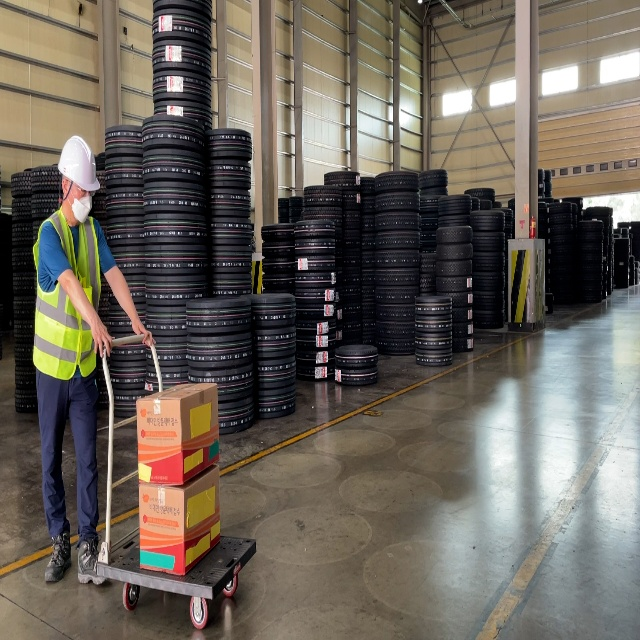Box: (139, 463, 221, 576), (136, 382, 220, 485)
Worker: (33, 135, 157, 586)
